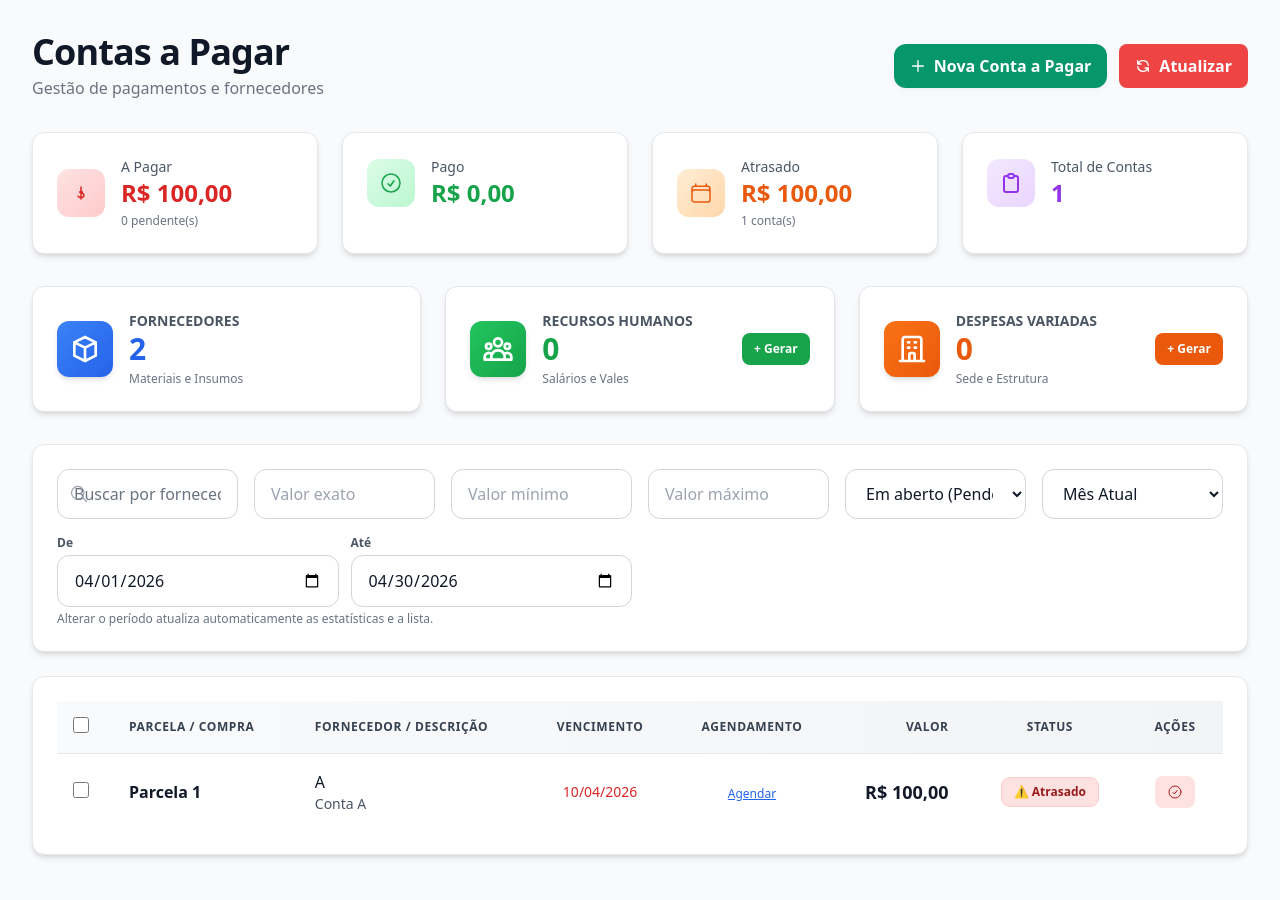
Test: ContasAPagar - filtro de período › default é Mês Atual e filtra estatísticas/lista
Expected: the text "Total de Contas" shows "1", [1051,176,1065,209]
Select "Todos os Períodos" in the 2nd dropdown at [1132, 494], box [1042,469,1223,519]
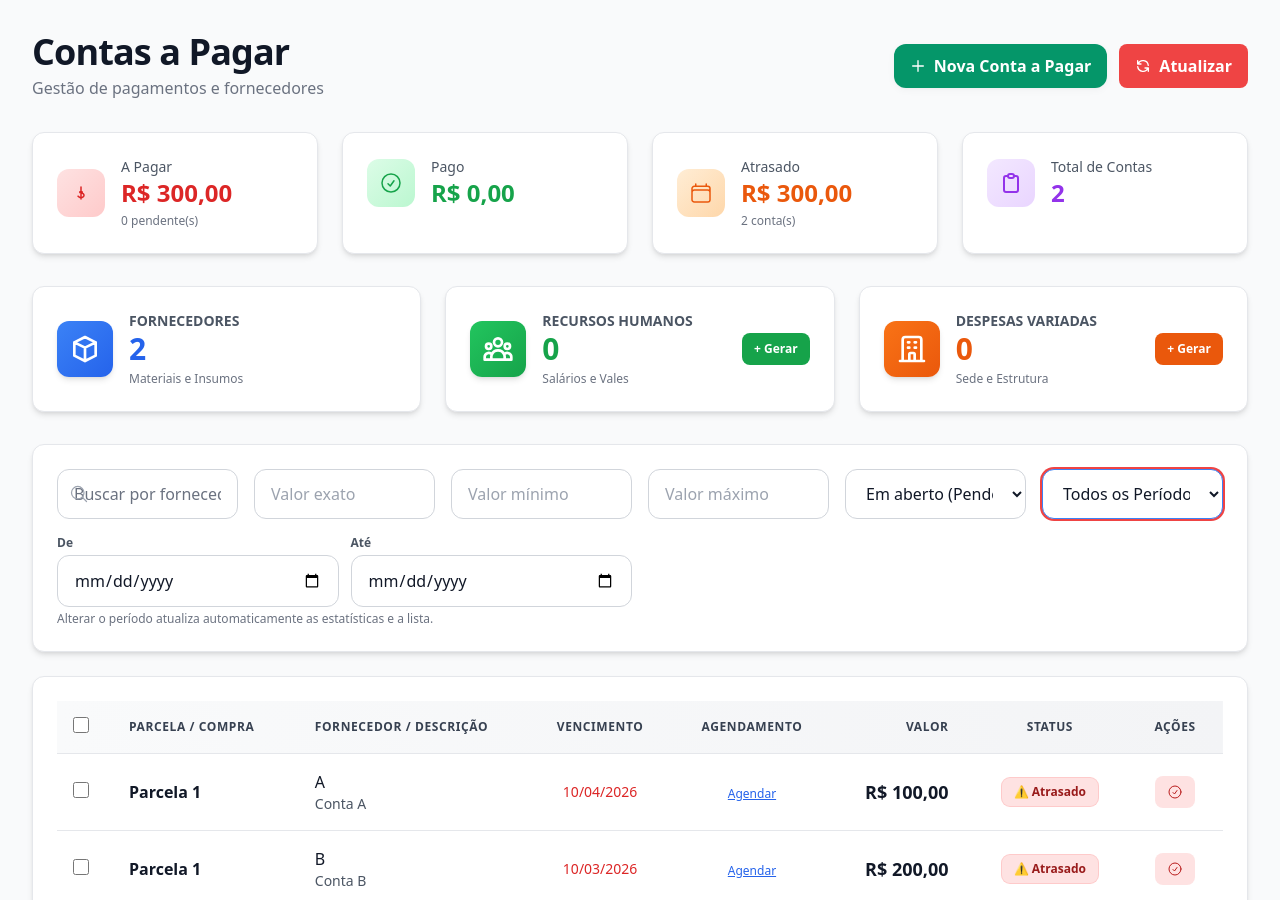
Result: the text "Total de Contas" shows "2" at [1051,176,1065,209]
